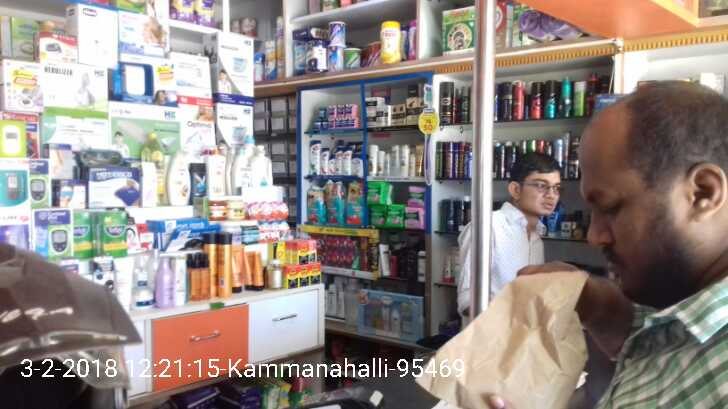beauty: (405, 96, 419, 125), (309, 139, 319, 175), (400, 144, 409, 176), (391, 145, 400, 177), (369, 144, 378, 175), (377, 147, 386, 176), (416, 144, 424, 176), (320, 148, 328, 174), (365, 98, 379, 110), (398, 104, 405, 126), (390, 104, 397, 126), (328, 156, 334, 174)
pharmacy: (326, 181, 344, 224), (347, 181, 364, 223), (307, 189, 324, 225), (405, 207, 426, 228), (369, 182, 387, 204), (387, 207, 406, 227), (369, 205, 387, 226), (408, 185, 425, 205)
